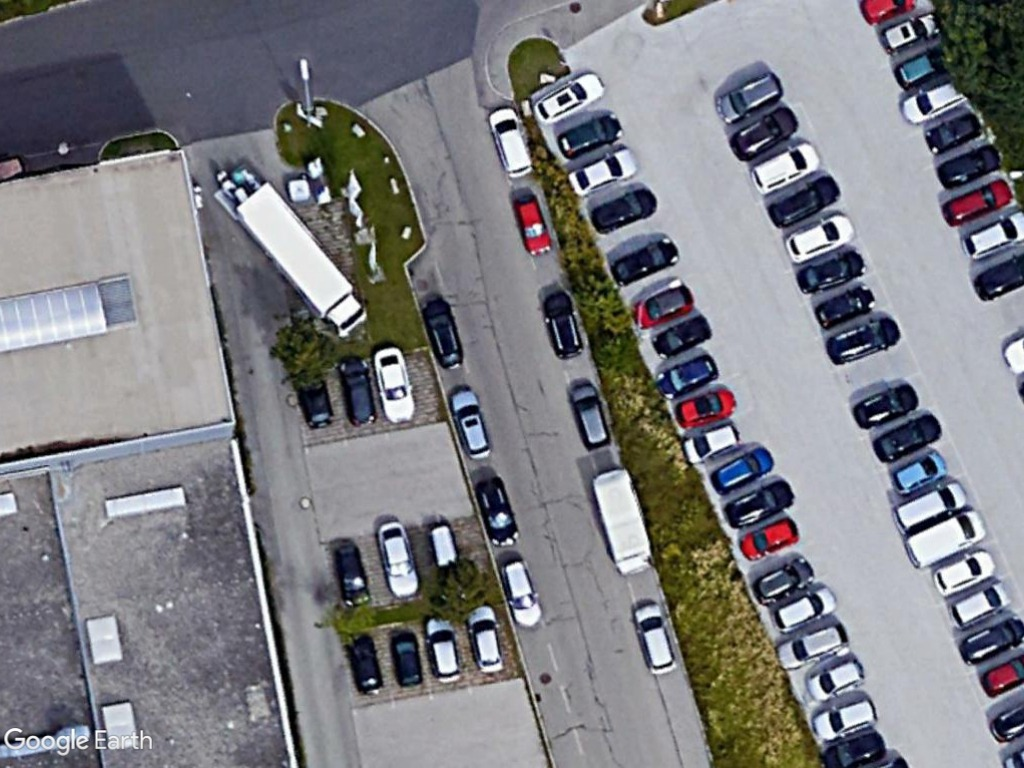car: (763, 169, 845, 231), (746, 137, 824, 201), (712, 66, 787, 128), (822, 312, 904, 366), (939, 174, 1014, 232), (773, 619, 852, 674), (782, 210, 861, 265), (869, 408, 948, 463), (607, 232, 683, 289), (728, 103, 802, 161), (532, 70, 608, 126), (721, 475, 797, 531), (374, 515, 423, 601), (565, 143, 639, 199), (748, 554, 819, 611), (369, 344, 418, 425), (485, 105, 536, 182), (933, 138, 1007, 191), (446, 382, 495, 461), (631, 600, 680, 678), (472, 474, 521, 551), (555, 108, 626, 161), (709, 444, 776, 500), (588, 184, 660, 236), (809, 691, 881, 743), (929, 543, 997, 598), (645, 310, 715, 363), (769, 582, 843, 632), (851, 380, 919, 434), (629, 280, 698, 333), (812, 279, 882, 331), (334, 351, 381, 428), (957, 614, 1024, 668), (947, 577, 1015, 630), (420, 293, 465, 372), (920, 108, 990, 158), (463, 601, 508, 678), (960, 208, 1024, 262), (794, 249, 867, 296), (541, 288, 587, 361), (567, 382, 614, 453), (499, 556, 544, 630), (653, 352, 720, 401), (672, 384, 738, 432), (806, 652, 868, 703), (737, 512, 800, 561), (678, 418, 742, 466), (510, 191, 555, 258), (819, 726, 889, 768), (890, 448, 951, 493), (333, 541, 373, 609), (423, 614, 461, 685), (385, 624, 426, 689)
truck: (229, 187, 373, 341)
van: (902, 507, 989, 572), (888, 477, 971, 536)
